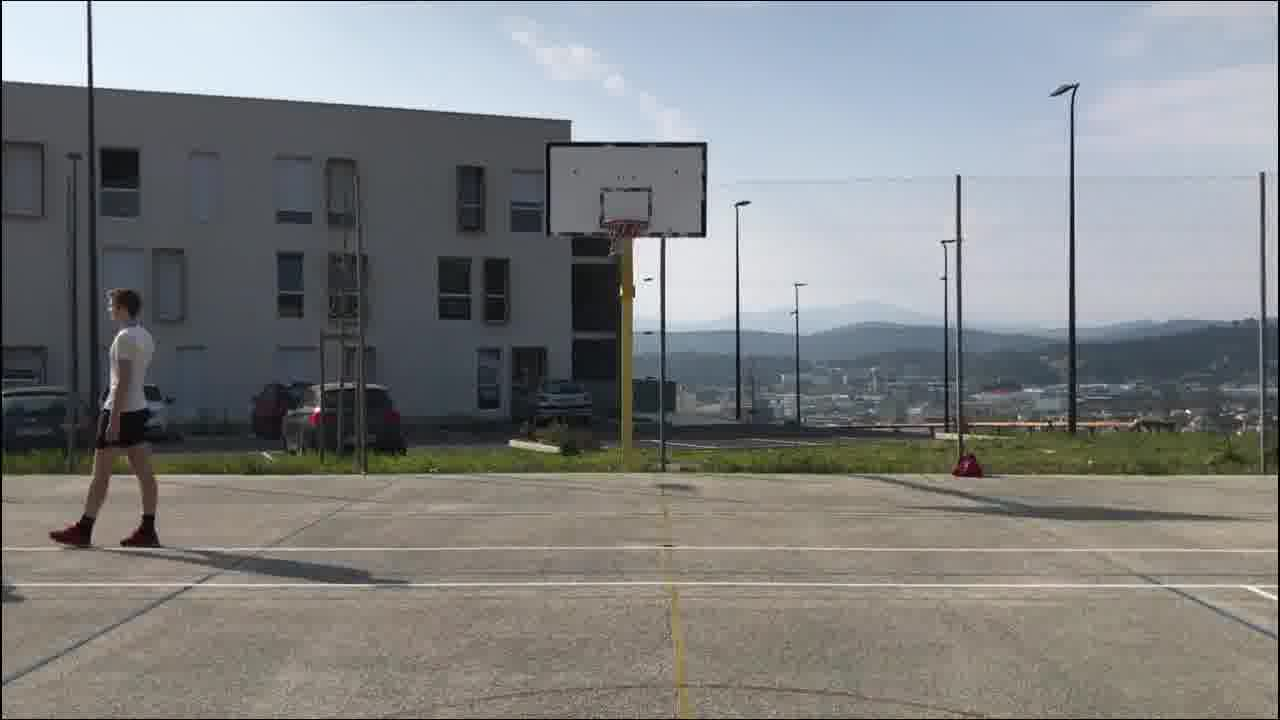jugador: (37, 278, 177, 558)
